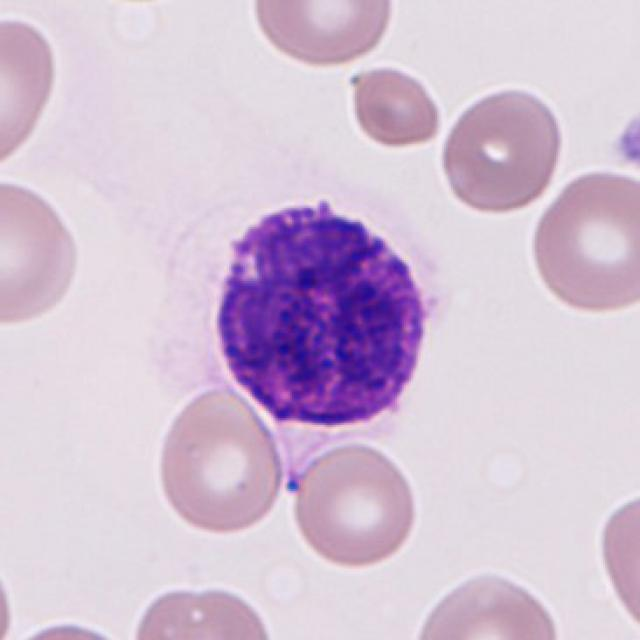Basophil: (198, 184, 454, 444)
Platelets: (608, 107, 640, 173)
RBC: (152, 383, 287, 538), (285, 436, 423, 572), (436, 81, 566, 217), (526, 163, 638, 319), (0, 173, 86, 329), (405, 563, 564, 640), (0, 7, 63, 175), (246, 0, 398, 69), (126, 579, 280, 640), (346, 61, 446, 151), (593, 484, 638, 636), (2, 615, 140, 640), (0, 546, 17, 639)
